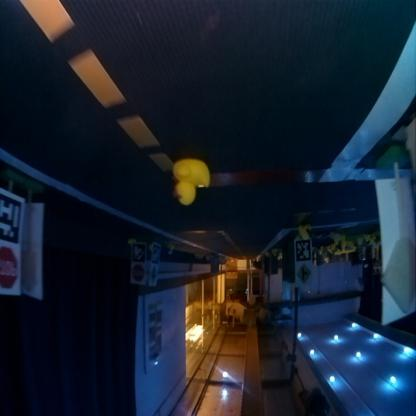Duckie: (172, 160, 209, 206), (168, 246, 173, 256)
Intersection sign: (295, 264, 311, 286)
QR code: (2, 194, 22, 239), (294, 240, 310, 262), (131, 245, 145, 263), (151, 246, 160, 264)
Stop sign: (0, 248, 18, 290), (132, 266, 142, 284)
